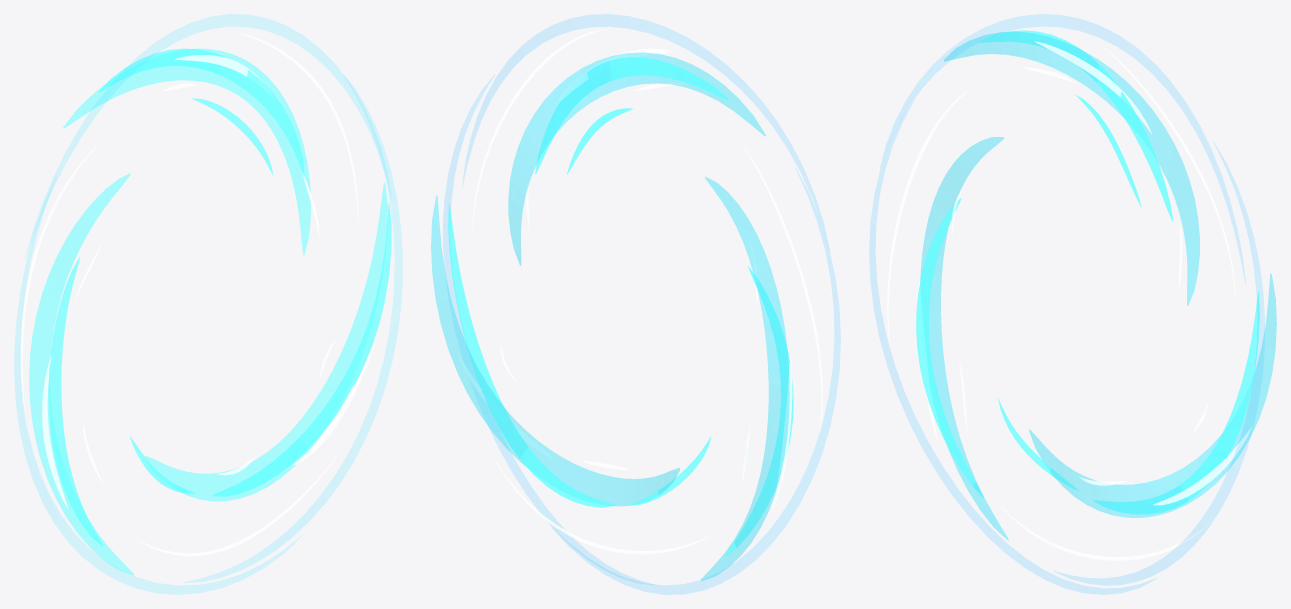
Rendered from wsc-arch-007-vault-iris.glb.
3 views of the same model, side by side, from view 1: azimuth 30°, elevation 25°; view 2: azimuth 150°, elevation 25°; view 3: azimuth 330°, elevation 25° (orthographic).
Visible parts, largest first — view 1: Vault iris overlay; view 2: Vault iris overlay; view 3: Vault iris overlay.
Boxes of the visible parts, x1,y1,x2,y2 form: Vault iris overlay: (15,14,401,594); Vault iris overlay: (431,14,840,594); Vault iris overlay: (869,14,1276,594).
Bounding box in the file's own units: 2.01 × 2.8 × 0.166.
